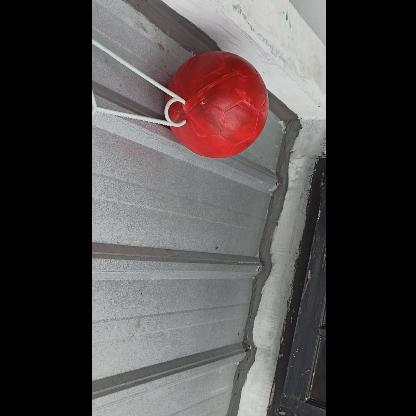red_ball: (163, 52, 269, 158)
